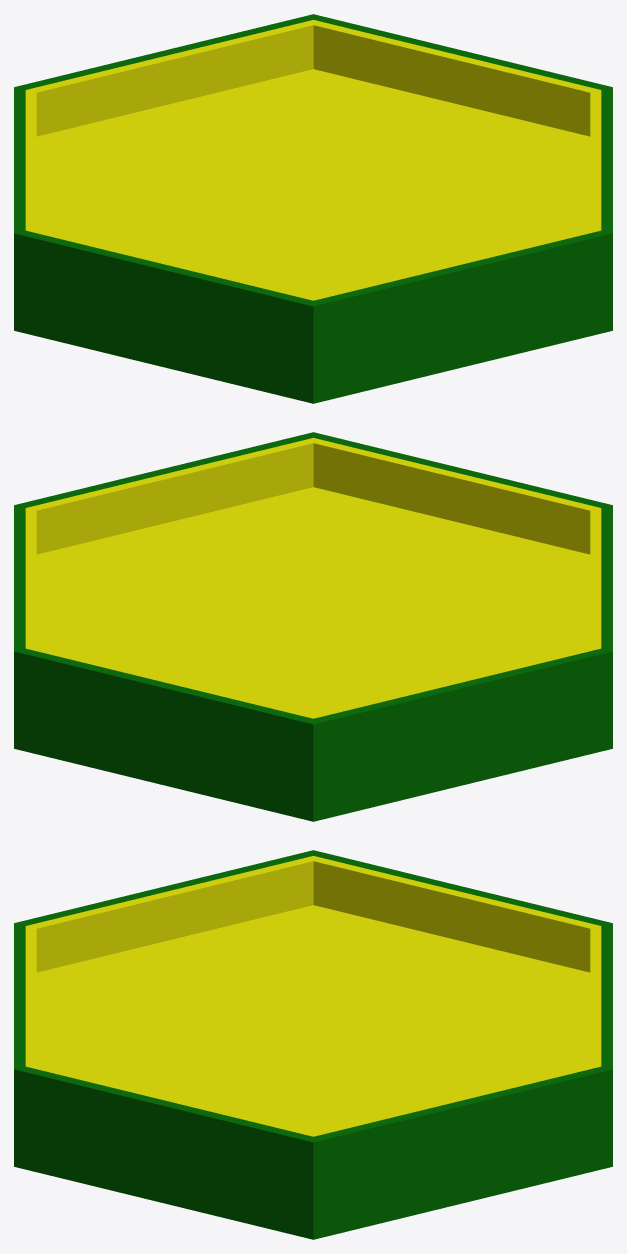
File: cellOuterFBX.fbx
3 views of the same model, one above another, from view 1: azimuth 30°, elevation 25°; view 2: azimuth 150°, elevation 25°; view 3: azimuth 270°, elevation 25° (orthographic).
Parts seen in each view (by area): view 1: pCylinder1; view 2: pCylinder1; view 3: pCylinder1.
Boxes of the visible parts, left/top/right/bottom form: pCylinder1: left=14, top=14, right=612, bottom=403; pCylinder1: left=14, top=432, right=612, bottom=821; pCylinder1: left=14, top=850, right=612, bottom=1239.
Bounding box in the file's own units: 150 × 23.27 × 130.
